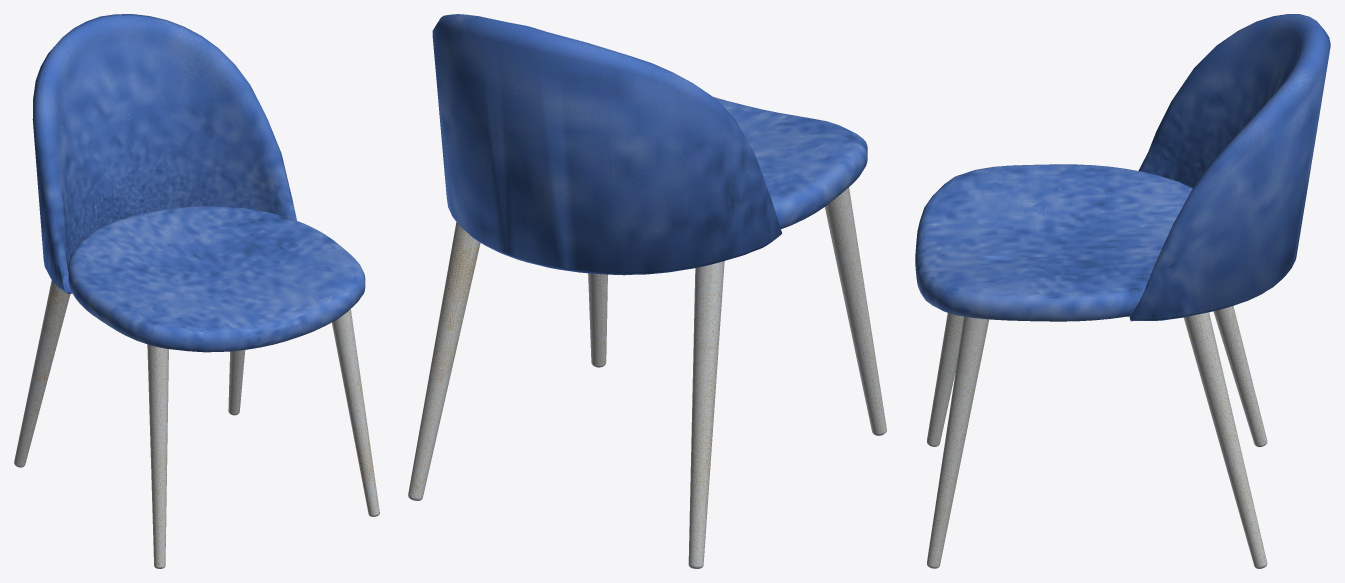
Rendered from blue chair.fbx.
3 renders of one model, left to right at view 1: azimuth 30°, elevation 25°; view 2: azimuth 150°, elevation 25°; view 3: azimuth 270°, elevation 25°, orthographic. The views are drawn at different scales.
Visible parts, largest first — view 1: instance_0, instance_0.008, instance_0.003, instance_0.004, instance_0.005; view 2: instance_0, instance_0.004, instance_0.005, instance_0.008, instance_0.003; view 3: instance_0, instance_0.005, instance_0.003, instance_0.004, instance_0.008.
Part boxes in pixels (x1,y1,x2,y2): instance_0: [32, 14, 365, 352]; instance_0.008: [147, 344, 168, 566]; instance_0.003: [332, 309, 379, 515]; instance_0.004: [14, 280, 70, 466]; instance_0.005: [228, 350, 245, 414]; instance_0: [432, 14, 867, 275]; instance_0.004: [688, 261, 724, 565]; instance_0.005: [408, 222, 480, 498]; instance_0.008: [825, 187, 886, 433]; instance_0.003: [588, 273, 607, 365]; instance_0: [915, 14, 1330, 321]; instance_0.005: [1184, 312, 1267, 566]; instance_0.003: [927, 316, 989, 566]; instance_0.004: [1213, 306, 1267, 445]; instance_0.008: [927, 313, 963, 445].
Size of the model in its own units: 49.82 by 78.68 by 62.57.
